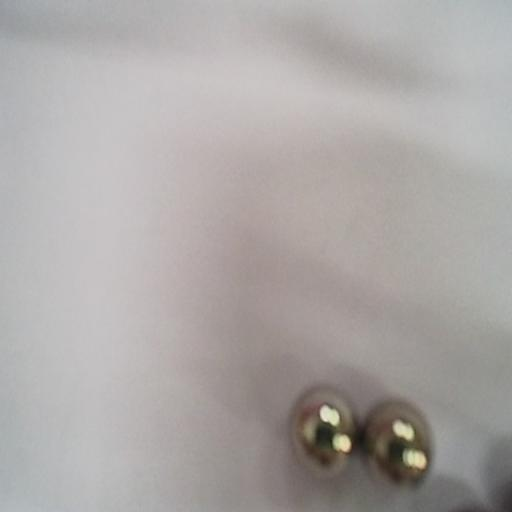steel-ball: (282, 378, 358, 484), (363, 394, 435, 493)
